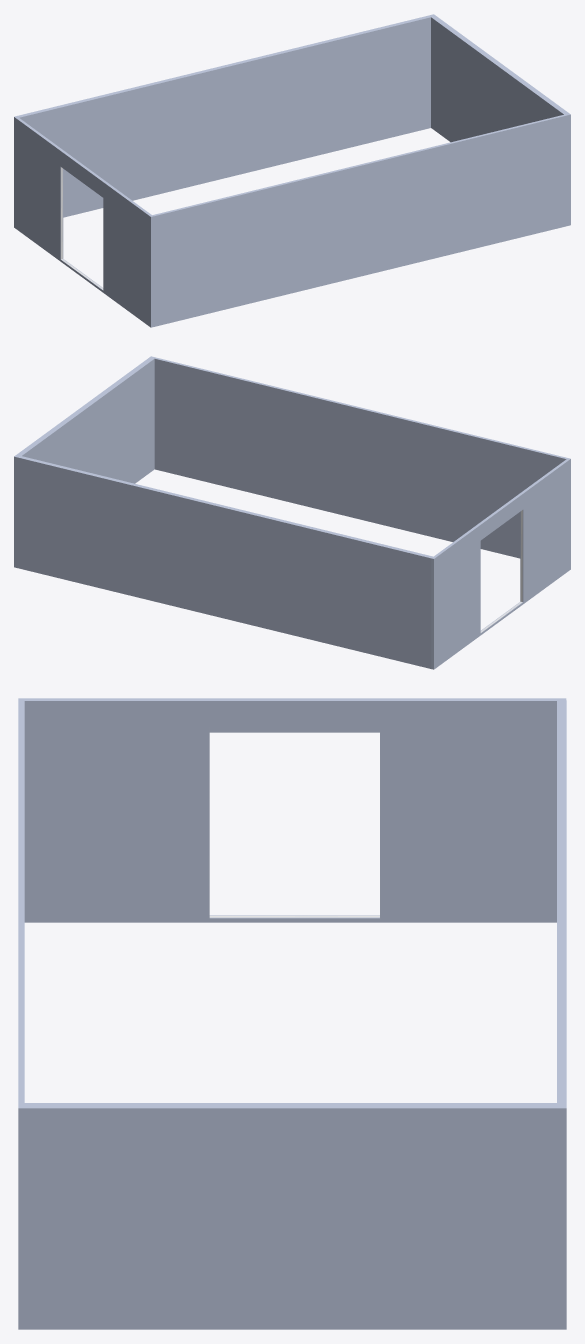
Rendered from walls.fbx.
3 renders of one model, top to bottom at view 1: azimuth 30°, elevation 25°; view 2: azimuth 150°, elevation 25°; view 3: azimuth 270°, elevation 25°, orthographic. The views are drawn at different scales.
Visible parts, largest first — view 1: walls; view 2: walls; view 3: walls.
Part boxes in pixels (box(x1,y1,x2,y2)): walls: box(14, 14, 570, 327); walls: box(14, 356, 570, 669); walls: box(18, 698, 566, 1329).
Size of the model in its own units: 13.56 by 3.42 by 7.66.
